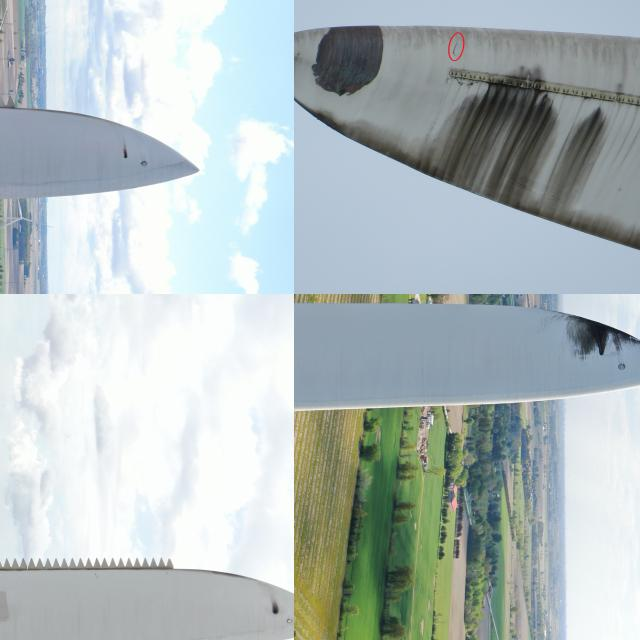damage: (309, 14, 387, 106), (547, 305, 639, 362), (268, 597, 284, 617), (119, 139, 132, 158)
